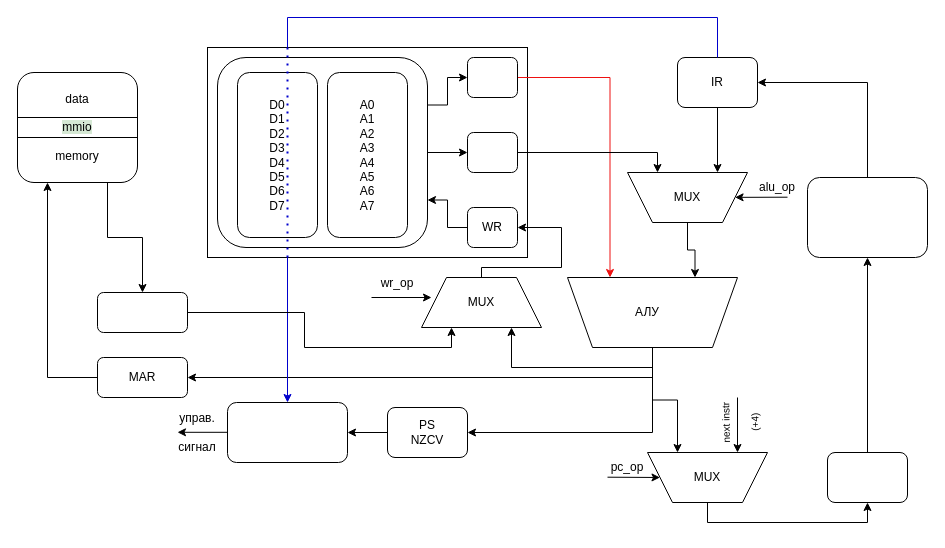
The diagram is 945 pixels wide and 548 high, and some of its shapes have lost their labels. Each missing label, with the centre of its shape:
"Control Unit" belongs at [287,432].
"instruction memory" belongs at [867,217].
"MDR" belongs at [142,312].
"PC" belongs at [867,477].
"R1" belongs at [492,77].
"R2" belongs at [492,152].
